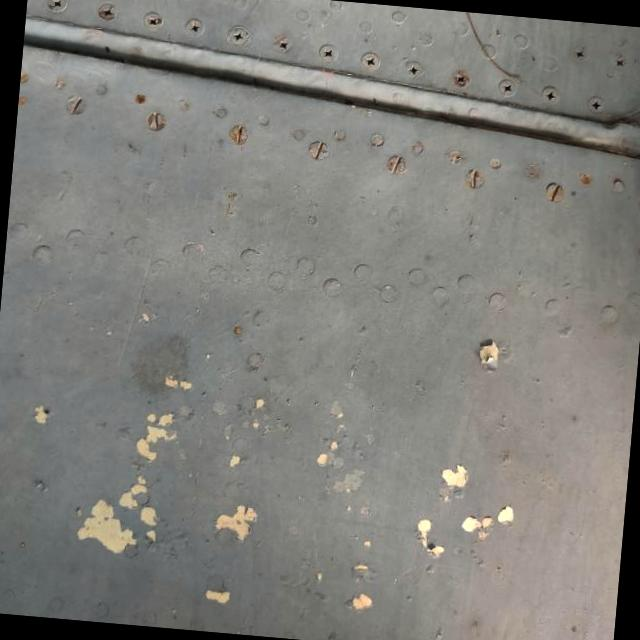paint-off: (48, 383, 216, 581), (391, 443, 527, 573), (212, 479, 280, 567), (456, 324, 518, 386)
